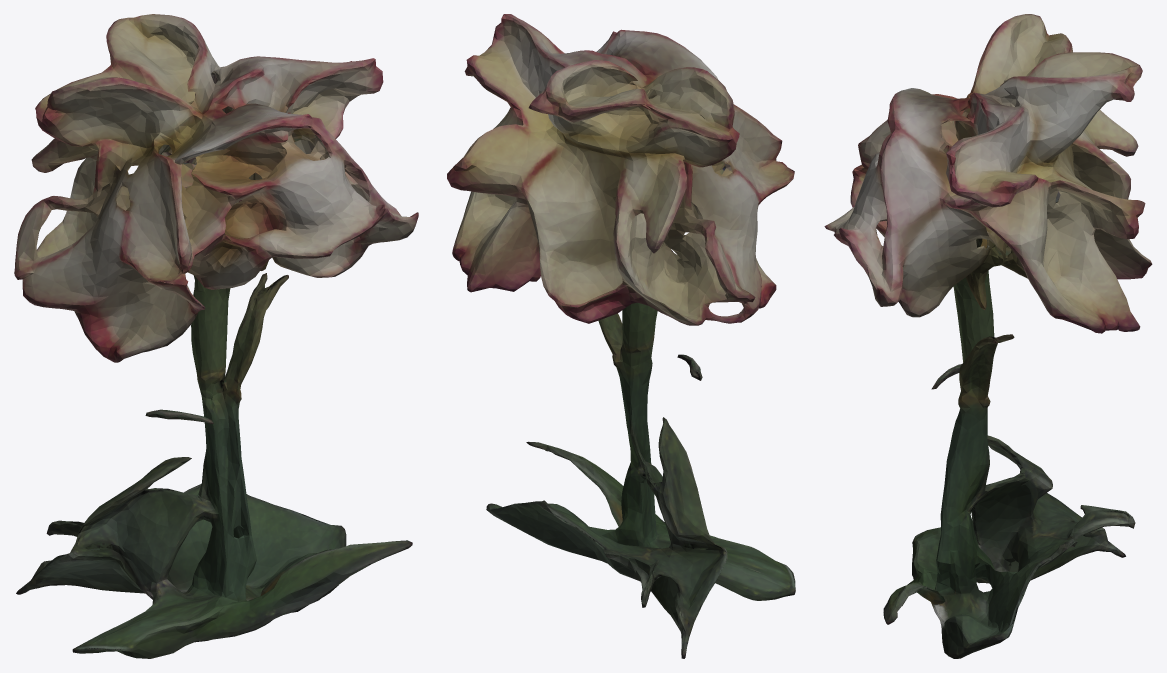
The picture shows the model from 3 angles, left to right: view 1: azimuth 30°, elevation 25°; view 2: azimuth 150°, elevation 25°; view 3: azimuth 270°, elevation 25°; orthographic projection. The views are drawn at different scales.
Parts seen in each view (by area): view 1: world; view 2: world; view 3: world.
Part boxes in pixels (left/top/right/bottom): world: left=14, top=14, right=418, bottom=658; world: left=447, top=14, right=795, bottom=658; world: left=824, top=14, right=1152, bottom=658.
Bounding box in the file's own units: 0.5791 × 0.9466 × 0.5089.
1 material, 1 textured.
